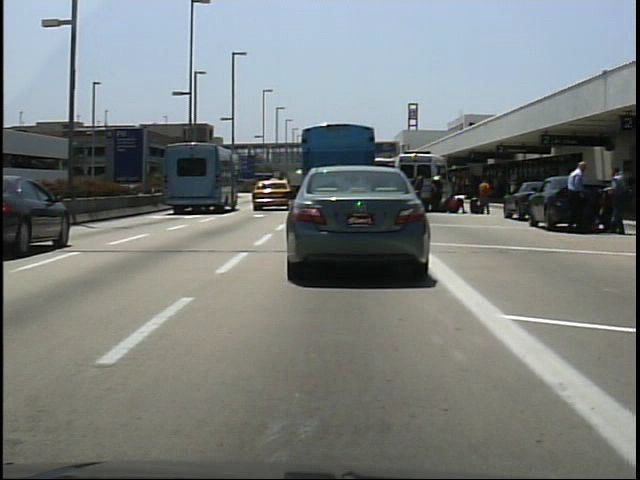person: (562, 157, 595, 237), (604, 162, 633, 240), (452, 172, 470, 219), (411, 170, 429, 217), (428, 172, 447, 216), (478, 178, 496, 218)
